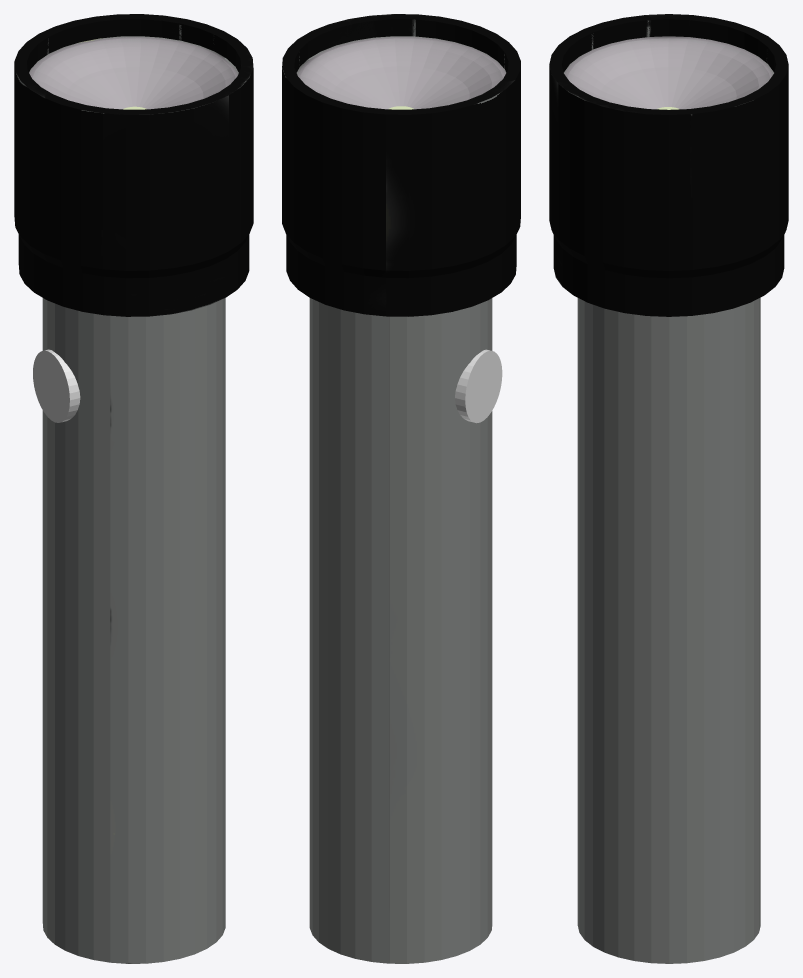
Rendered from flashlight (1).glb.
3 renders of one model, left to right at view 1: azimuth 30°, elevation 25°; view 2: azimuth 150°, elevation 25°; view 3: azimuth 270°, elevation 25°, orthographic.
Visible parts, largest first — view 1: Cylinder, Sphere; view 2: Cylinder, Sphere; view 3: Cylinder.
Boxes of the visible parts, bbox=[...] form: Cylinder: bbox=[14, 14, 253, 963]; Sphere: bbox=[33, 349, 80, 422]; Cylinder: bbox=[282, 14, 520, 963]; Sphere: bbox=[455, 349, 502, 423]; Cylinder: bbox=[549, 14, 788, 963].
Bounding box in the file's own units: 1.33 × 5.27 × 1.33.
1 material, 1 textured.
